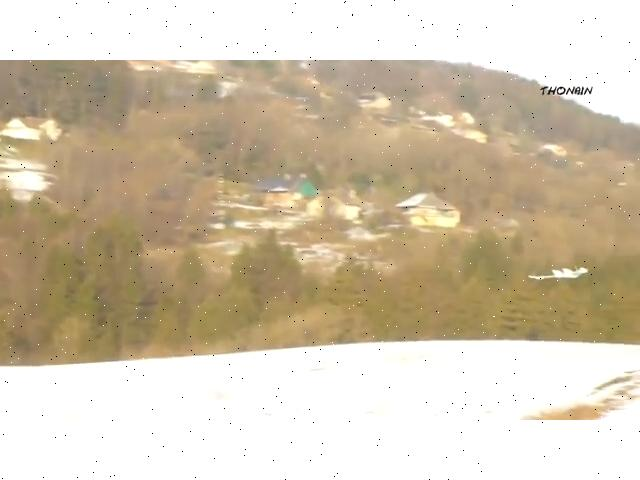Anti-Drone: (527, 267, 587, 279)
